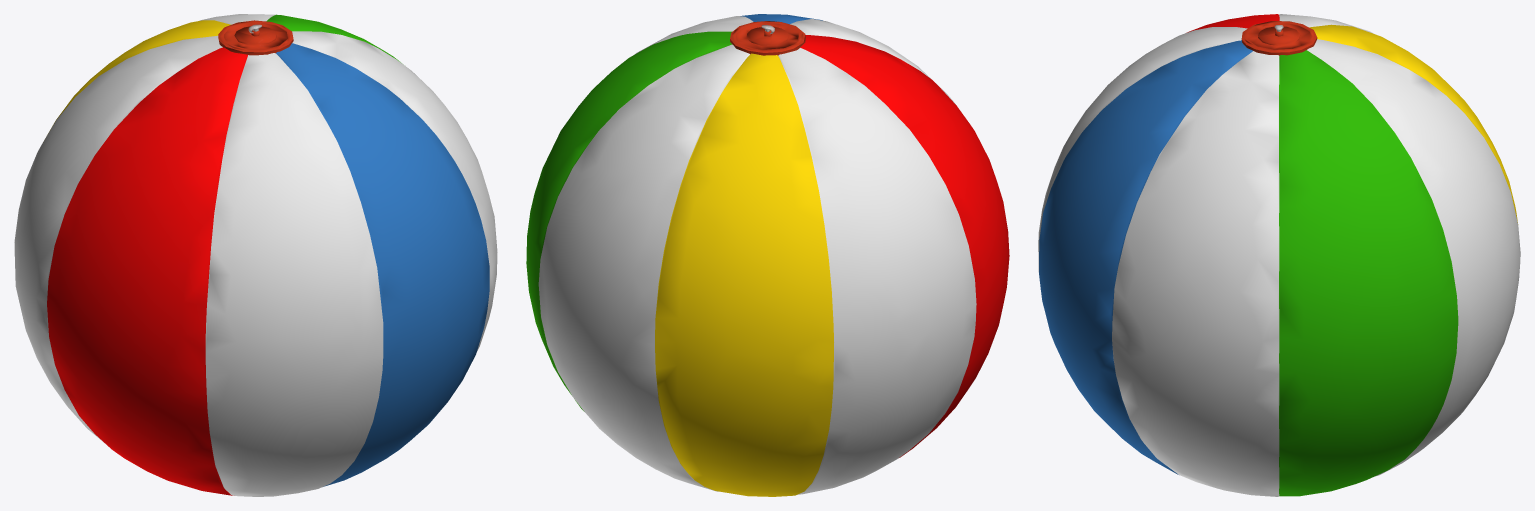
File: beachball.gltf
3 views of the same model, side by side, from view 1: azimuth 30°, elevation 25°; view 2: azimuth 150°, elevation 25°; view 3: azimuth 270°, elevation 25° (orthographic).
Parts seen in each view (by area): view 1: ball; view 2: ball; view 3: ball.
Boxes of the visible parts, x1,y1,x2,y2 form: ball: (14, 14, 497, 496); ball: (526, 14, 1009, 496); ball: (1038, 14, 1520, 496).
Size of the model in its own units: 1.98 by 2.04 by 1.98.
1 material, 1 textured.
